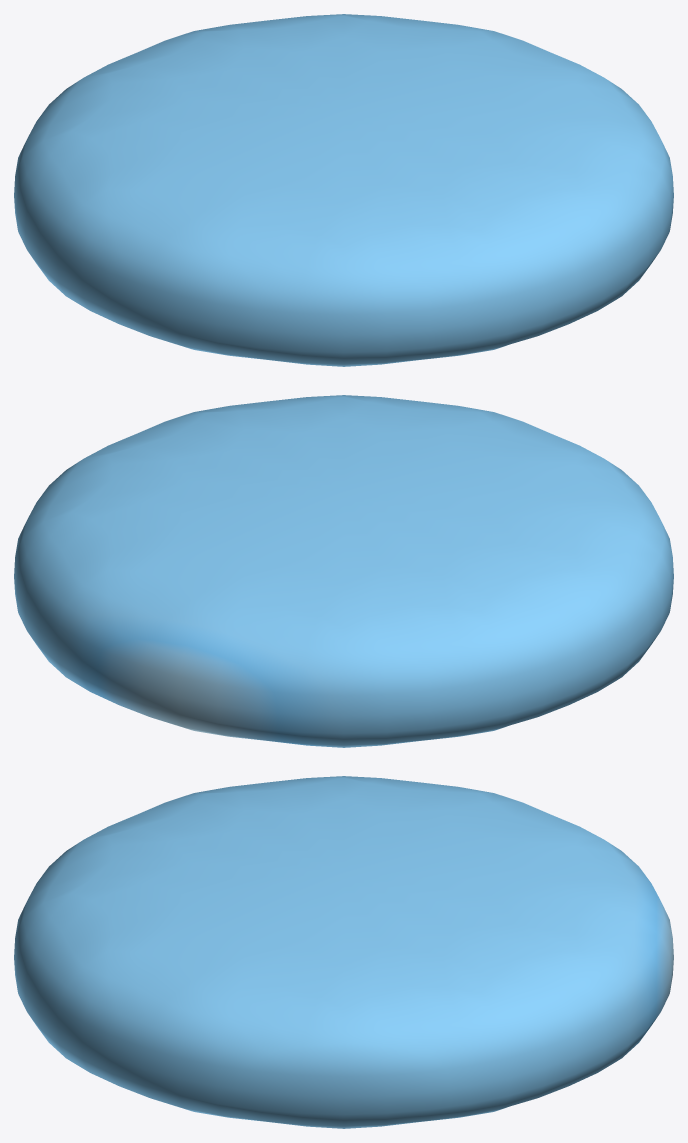
Rendered from blue.glb.
3 views of the same model, one above another, from view 1: azimuth 30°, elevation 25°; view 2: azimuth 150°, elevation 25°; view 3: azimuth 270°, elevation 25° (orthographic).
Parts seen in each view (by area): view 1: blue; view 2: blue; view 3: blue.
Boxes of the visible parts, <box> form: blue: <box>14,14,673,366</box>; blue: <box>14,395,673,747</box>; blue: <box>14,776,673,1128</box>.
Size of the model in its own units: 0.1212 by 0.0298 by 0.1212.
Materials: 1 (1 with a texture image).
